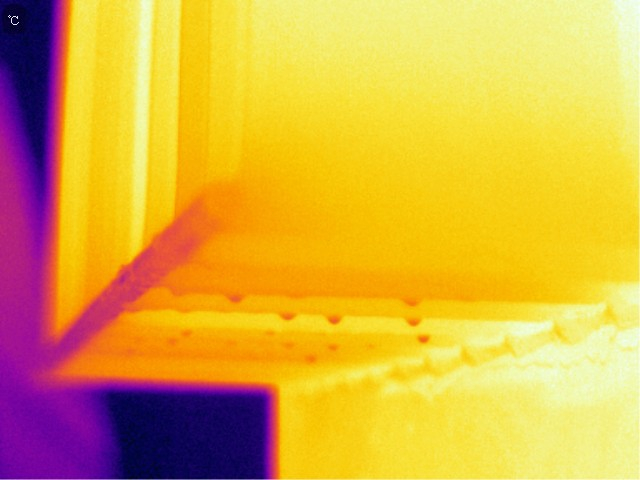Oil: (226, 290, 253, 305), (175, 326, 198, 342), (400, 295, 424, 308), (402, 314, 423, 327), (164, 334, 180, 351), (304, 354, 322, 368), (278, 312, 298, 324), (417, 333, 432, 346), (279, 336, 294, 349), (328, 314, 339, 327), (328, 343, 343, 350)
